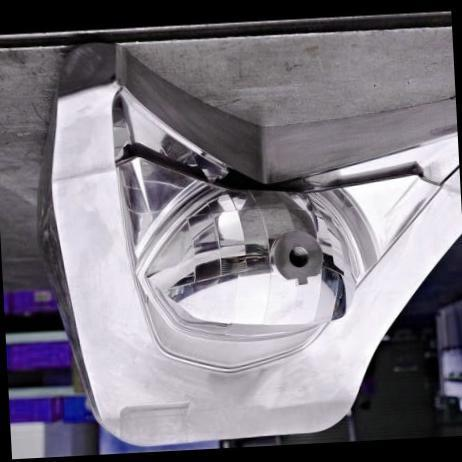hole: (286, 241, 311, 269)
